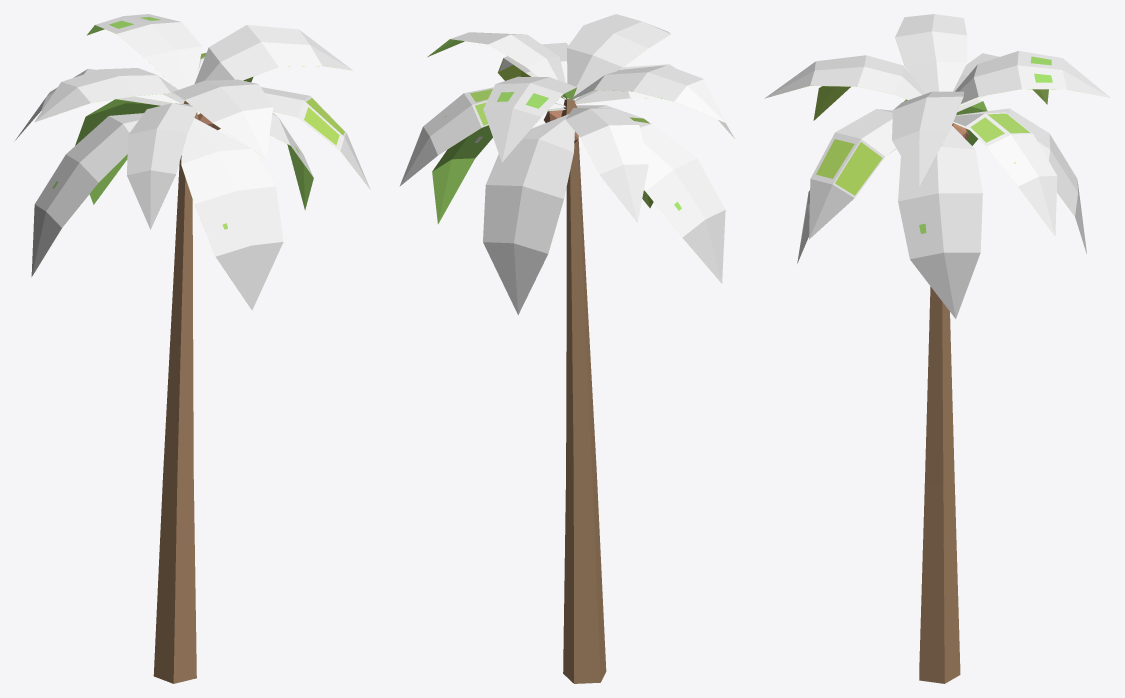
Rendered from Palm_Tree_Coconut_l_Snow_01_LOD.fbx.
3 renders of one model, left to right at view 1: azimuth 30°, elevation 25°; view 2: azimuth 150°, elevation 25°; view 3: azimuth 270°, elevation 25°, orthographic.
Parts seen in each view (by area): view 1: Palm_Tree_Coconut_l_Snow_01_LOD0; view 2: Palm_Tree_Coconut_l_Snow_01_LOD0; view 3: Palm_Tree_Coconut_l_Snow_01_LOD0.
Boxes of the visible parts, x1,y1,x2,y2 form: Palm_Tree_Coconut_l_Snow_01_LOD0: (14, 14, 370, 683); Palm_Tree_Coconut_l_Snow_01_LOD0: (399, 14, 734, 683); Palm_Tree_Coconut_l_Snow_01_LOD0: (764, 14, 1109, 683).
Size of what is drawn, in the model's own units: 430 by 823 by 417.
